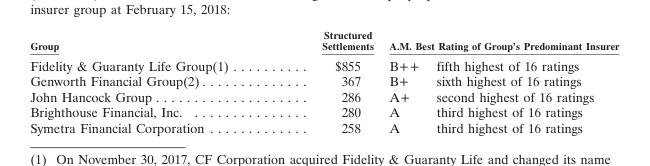table: (29, 28, 618, 134)
table column: (29, 28, 274, 134), (427, 28, 618, 134), (274, 28, 381, 134), (381, 28, 427, 134)
table column header: (29, 28, 618, 72)
table row: (29, 28, 618, 54), (29, 54, 618, 72), (29, 72, 618, 88), (29, 103, 618, 119), (29, 88, 618, 103), (29, 119, 618, 134)
table spanning cell: (29, 28, 274, 72), (381, 28, 618, 54), (274, 28, 381, 72)
